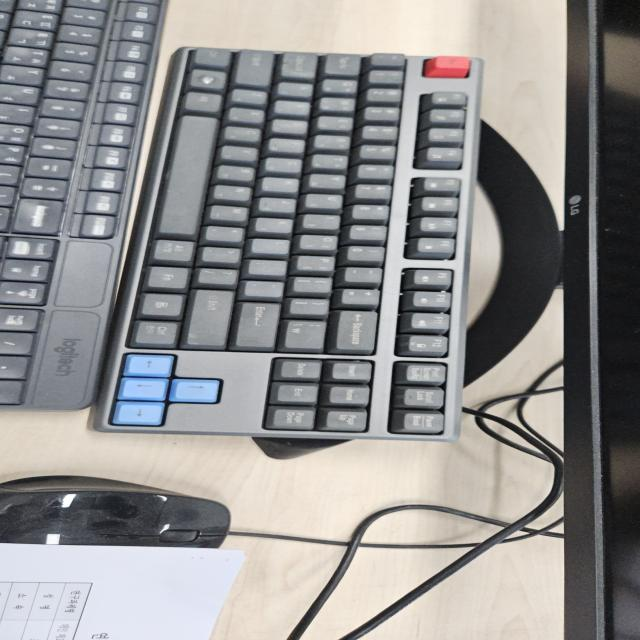Keyboard: (89, 45, 482, 442)
Mouse: (1, 473, 234, 549)
